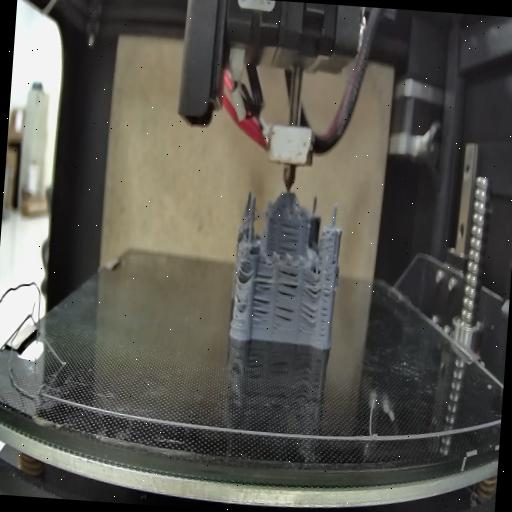cracks: (252, 272, 275, 324), (318, 272, 332, 343), (276, 220, 300, 256), (274, 268, 300, 298), (273, 303, 294, 330), (299, 302, 319, 326), (302, 278, 322, 300), (231, 262, 250, 284), (232, 292, 246, 316), (330, 252, 338, 268)
